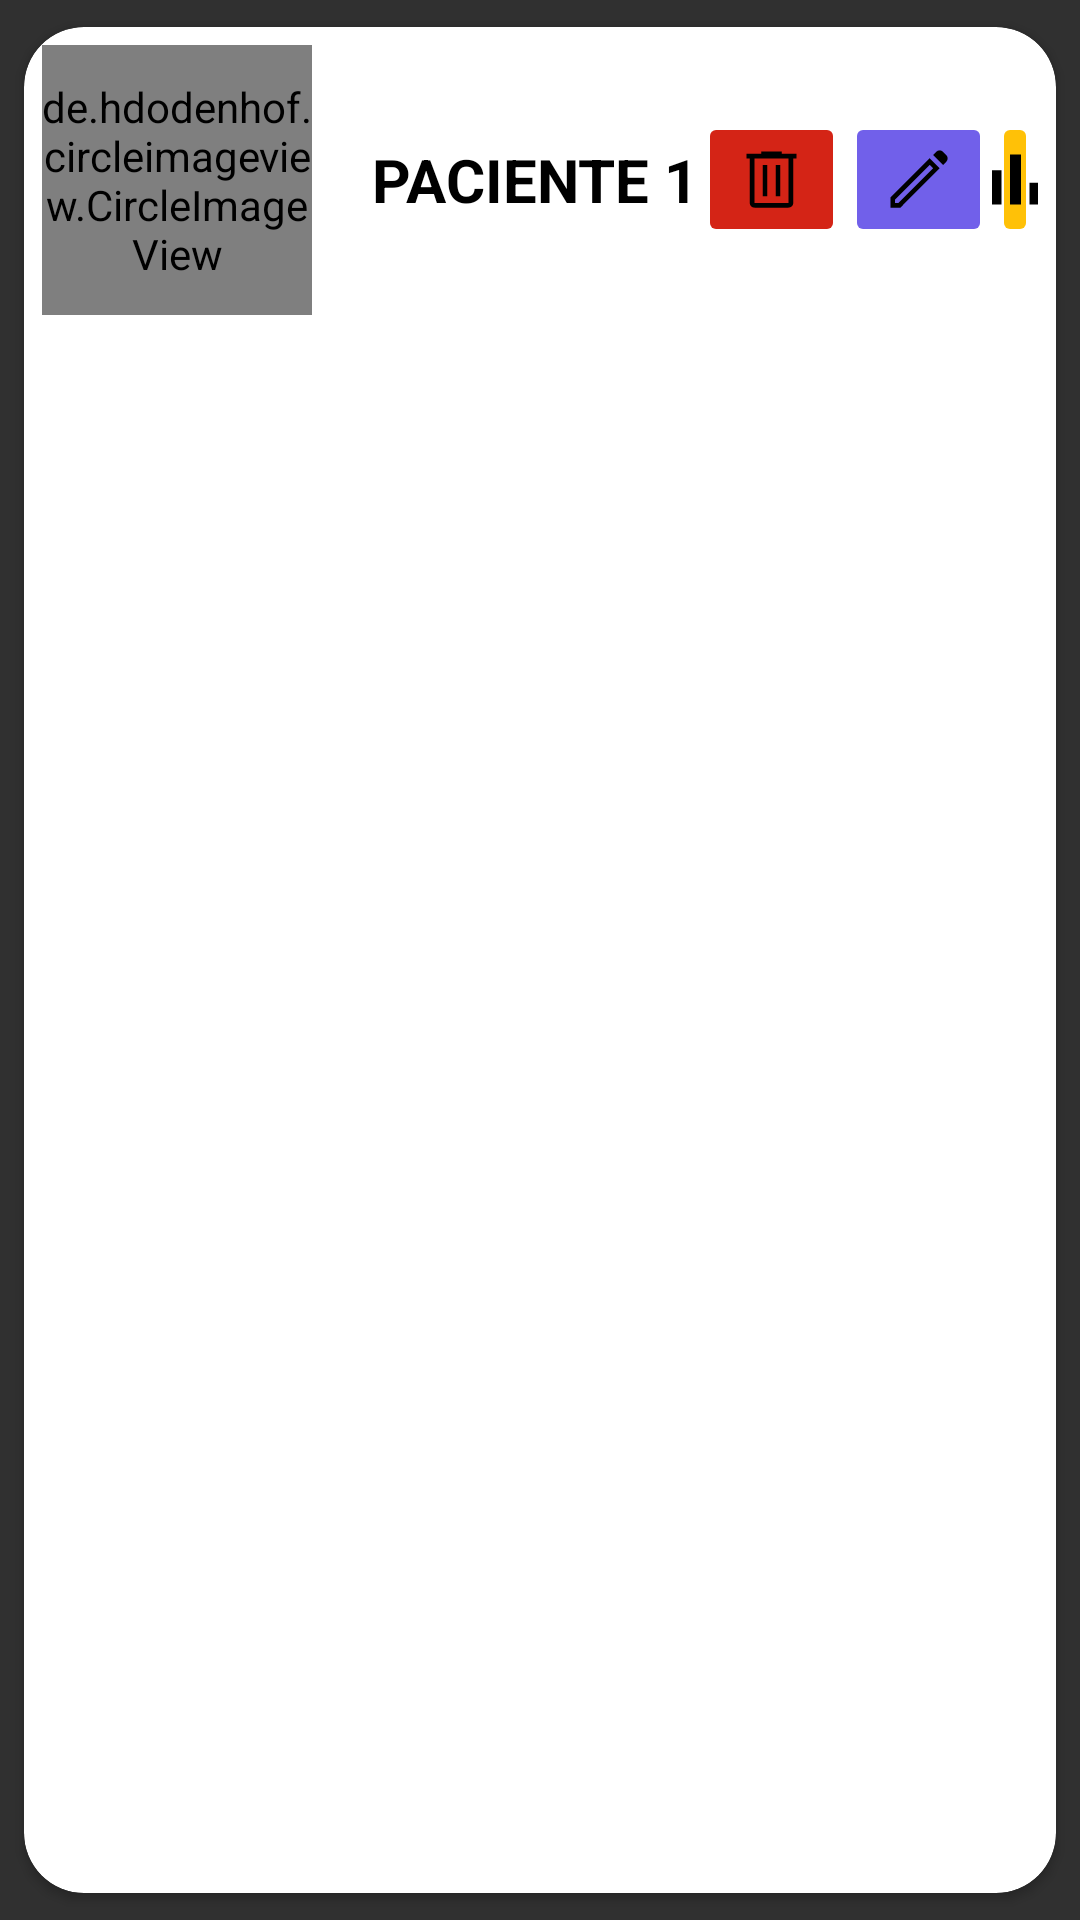

Icons on this 1080w x 1920h Android screen, each with its box as (x1, y1, x2, y2):
bar chart: (992, 130, 1038, 229)
delete: (710, 130, 833, 229)
edit: (857, 130, 980, 229)
